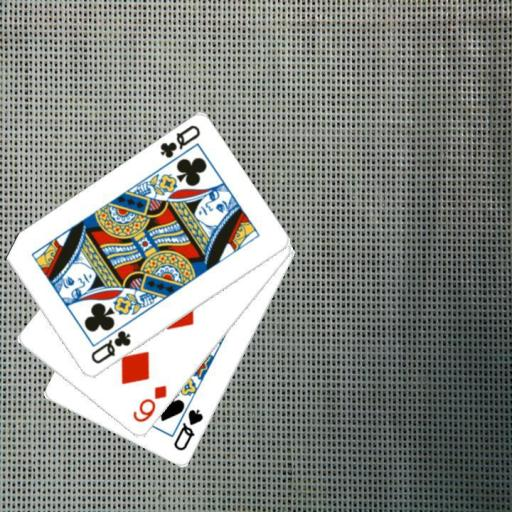6D: (130, 382, 169, 424)
QC: (156, 122, 202, 161), (88, 327, 133, 366)
QS: (170, 406, 205, 453)
